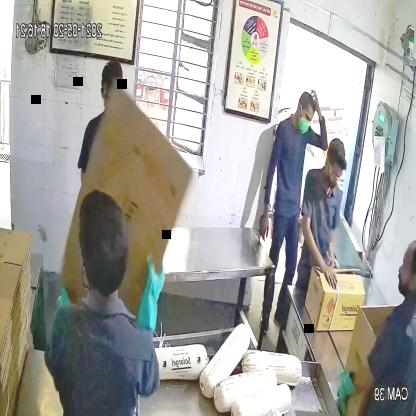goggles: (325, 162, 348, 184)
